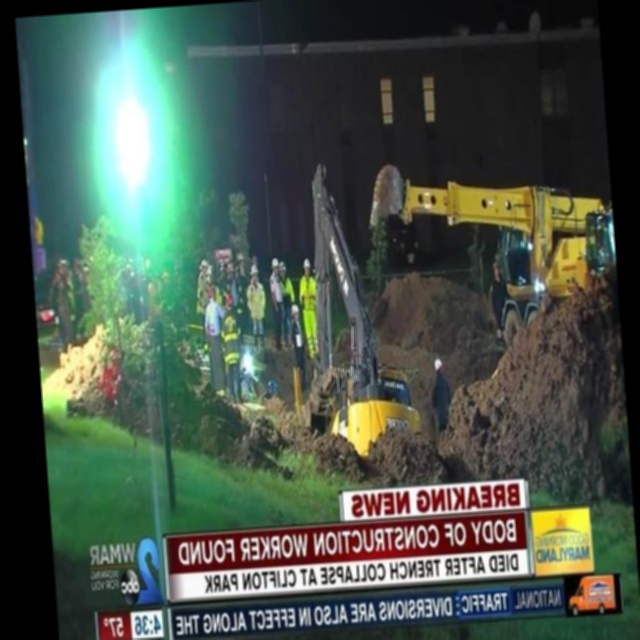Con_Chaleco: (220, 310, 243, 366), (299, 275, 317, 314)
